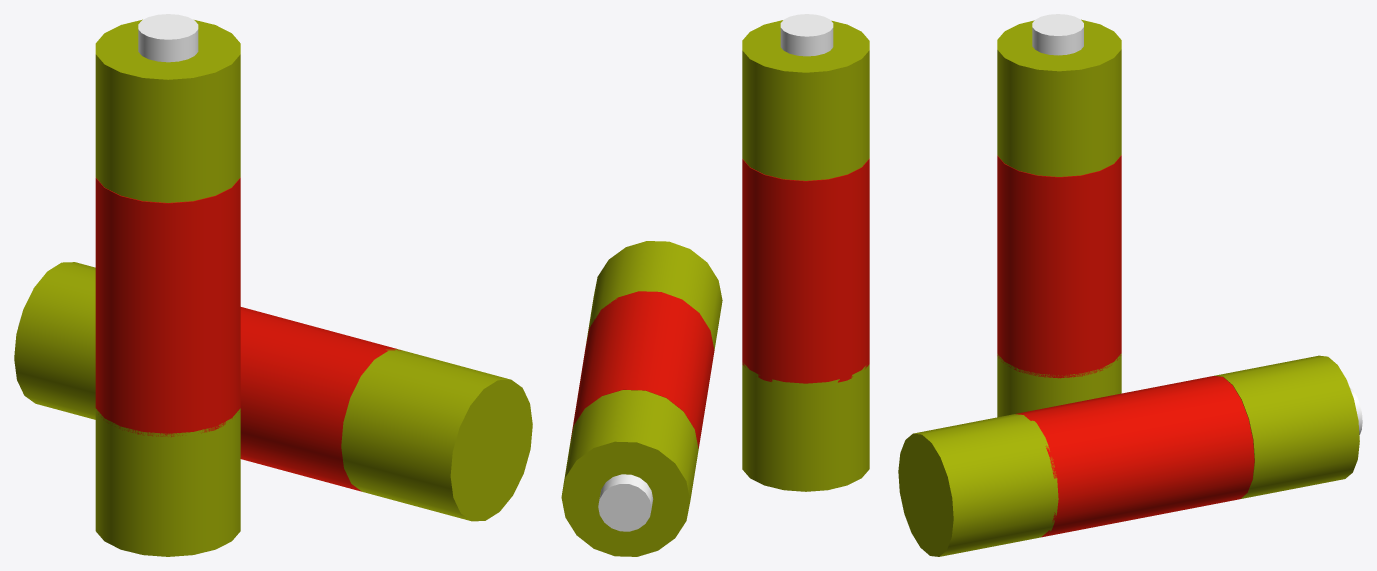
Rendered from Battery.FBX.
3 renders of one model, left to right at view 1: azimuth 30°, elevation 25°; view 2: azimuth 150°, elevation 25°; view 3: azimuth 270°, elevation 25°, orthographic. The views are drawn at different scales.
Visible parts, largest first — view 1: Cylinder004, Cylinder008, Cylinder003, Cylinder001, Cylinder007, Cylinder006, Cylinder002; view 2: Cylinder004, Cylinder003, Cylinder006, Cylinder001, Cylinder007, Cylinder008, Cylinder005, Cylinder002; view 3: Cylinder007, Cylinder004, Cylinder008, Cylinder003, Cylinder006, Cylinder001, Cylinder002.
Boxes of the visible parts, x1=… form: Cylinder004: x1=95, y1=177, x2=240, y2=436; Cylinder008: x1=341, y1=349, x2=532, y2=521; Cylinder003: x1=95, y1=19, x2=240, y2=202; Cylinder001: x1=95, y1=408, x2=240, y2=556; Cylinder007: x1=240, y1=307, x2=401, y2=491; Cylinder006: x1=14, y1=262, x2=95, y2=419; Cylinder002: x1=138, y1=14, x2=198, y2=62; Cylinder004: x1=742, y1=158, x2=869, y2=383; Cylinder003: x1=742, y1=20, x2=869, y2=180; Cylinder006: x1=561, y1=390, x2=698, y2=556; Cylinder001: x1=742, y1=363, x2=869, y2=491; Cylinder007: x1=570, y1=291, x2=714, y2=448; Cylinder008: x1=586, y1=241, x2=722, y2=350; Cylinder005: x1=598, y1=474, x2=653, y2=531; Cylinder002: x1=780, y1=14, x2=833, y2=56; Cylinder007: x1=1015, y1=376, x2=1254, y2=537; Cylinder004: x1=997, y1=155, x2=1121, y2=378; Cylinder008: x1=898, y1=414, x2=1058, y2=556; Cylinder003: x1=997, y1=19, x2=1121, y2=176; Cylinder006: x1=1214, y1=355, x2=1359, y2=498; Cylinder001: x1=997, y1=353, x2=1121, y2=417; Cylinder002: x1=1032, y1=14, x2=1083, y2=55.
Size of the model in its own units: 30.85 by 40.16 by 39.38.
